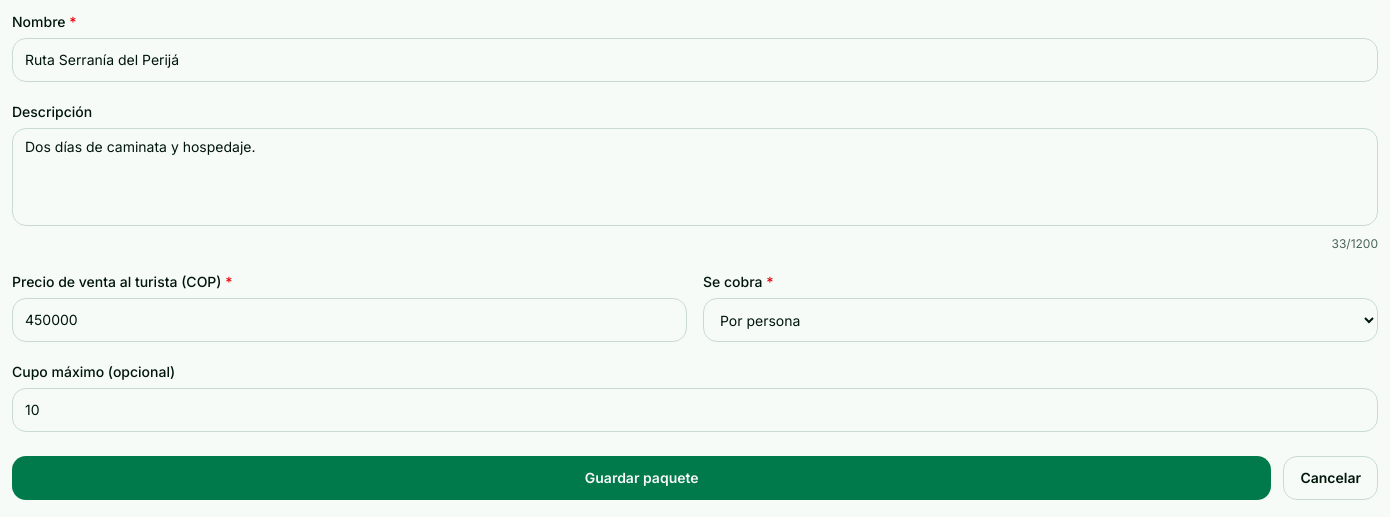
Test: PackageForm › disables the submit button and shows the pending label while the action is in flight
What coordinates should you click on to do the following:
click the button "Guardar paquete"
I would click on:
 (642, 478)
Its box is [12,456,1271,500].
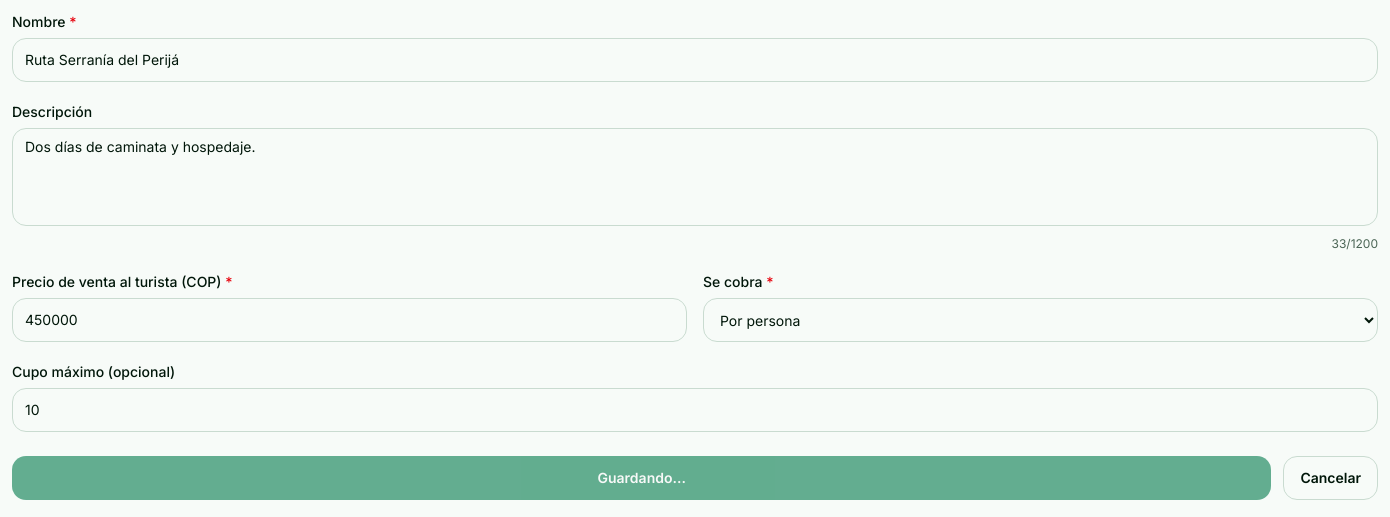
Result: the button "Guardando..." is disabled at [12,456,1271,500]
